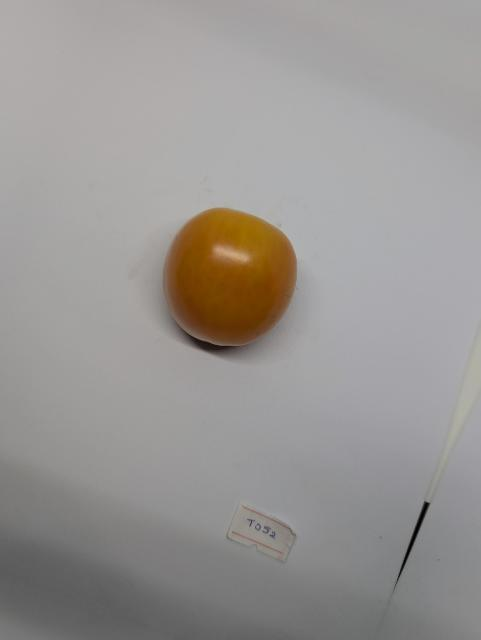turning: (157, 200, 316, 356)
